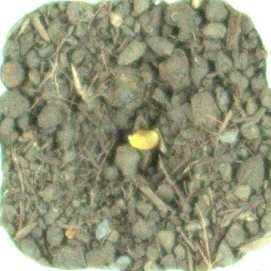chilli seed: (127, 127, 162, 151)
